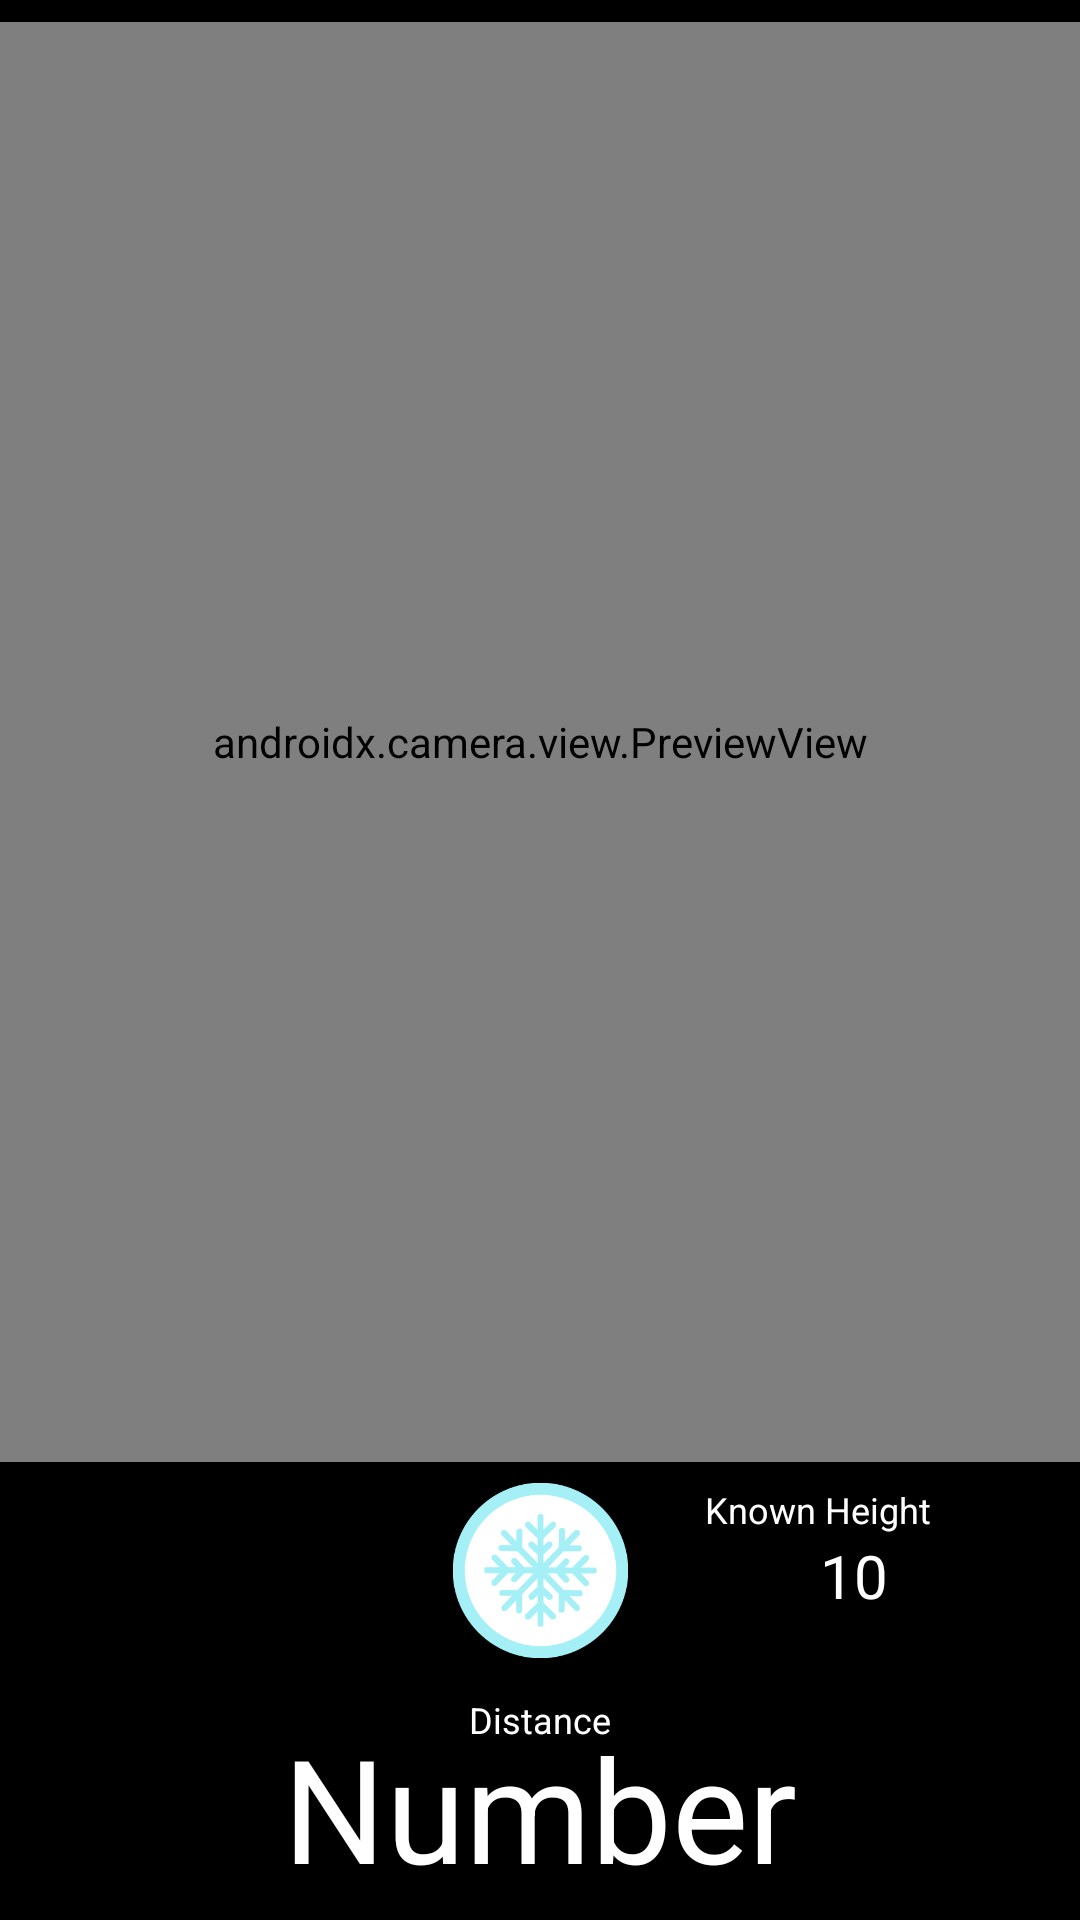

Where to tap for icons on this 1080×1920 app screen, as [x,y]:
freeze: [540,1570]
